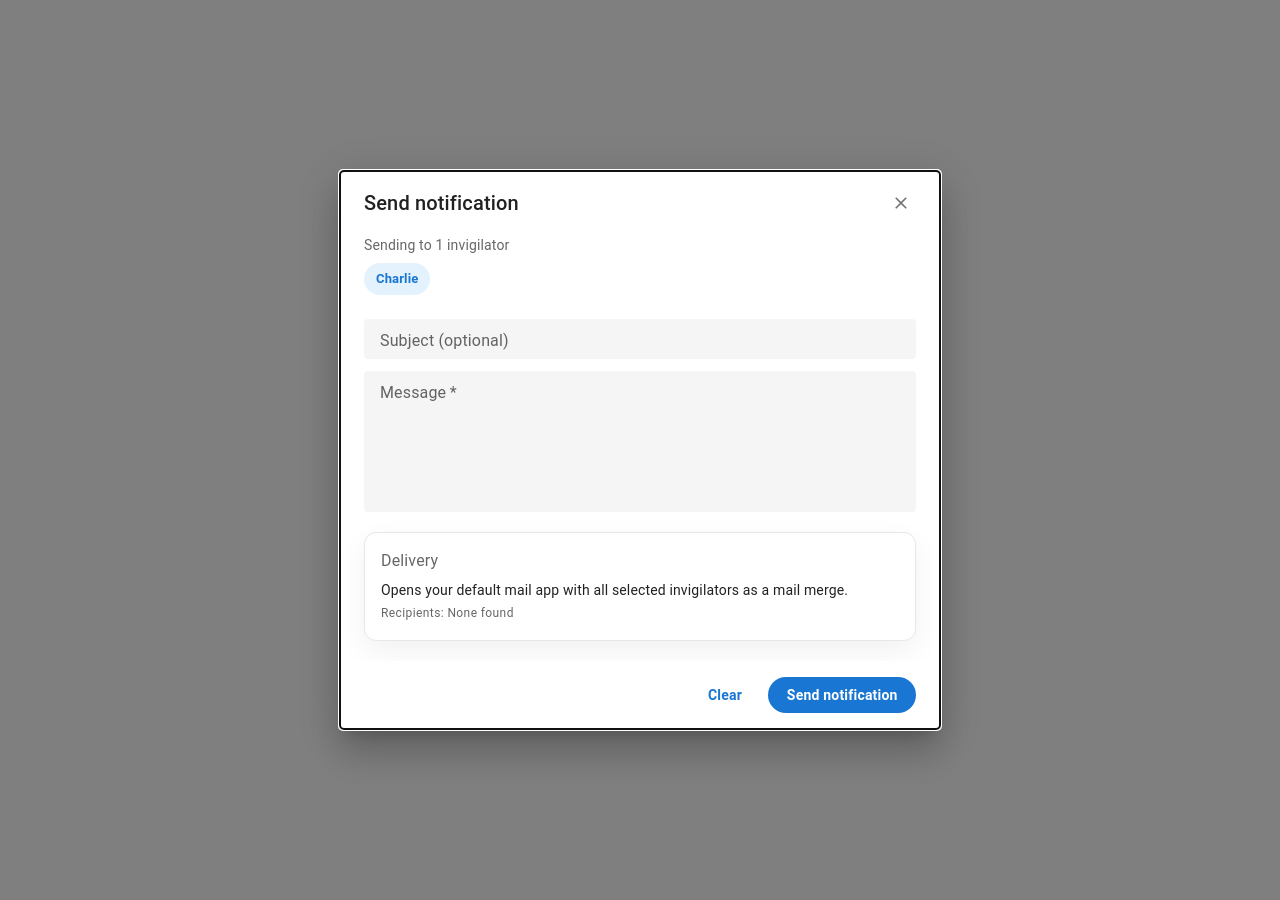
Scenario: Components - NotifyDialog › validates missing email addresses
Click the button "Send notification" at (842, 695), box [768,677,916,713]
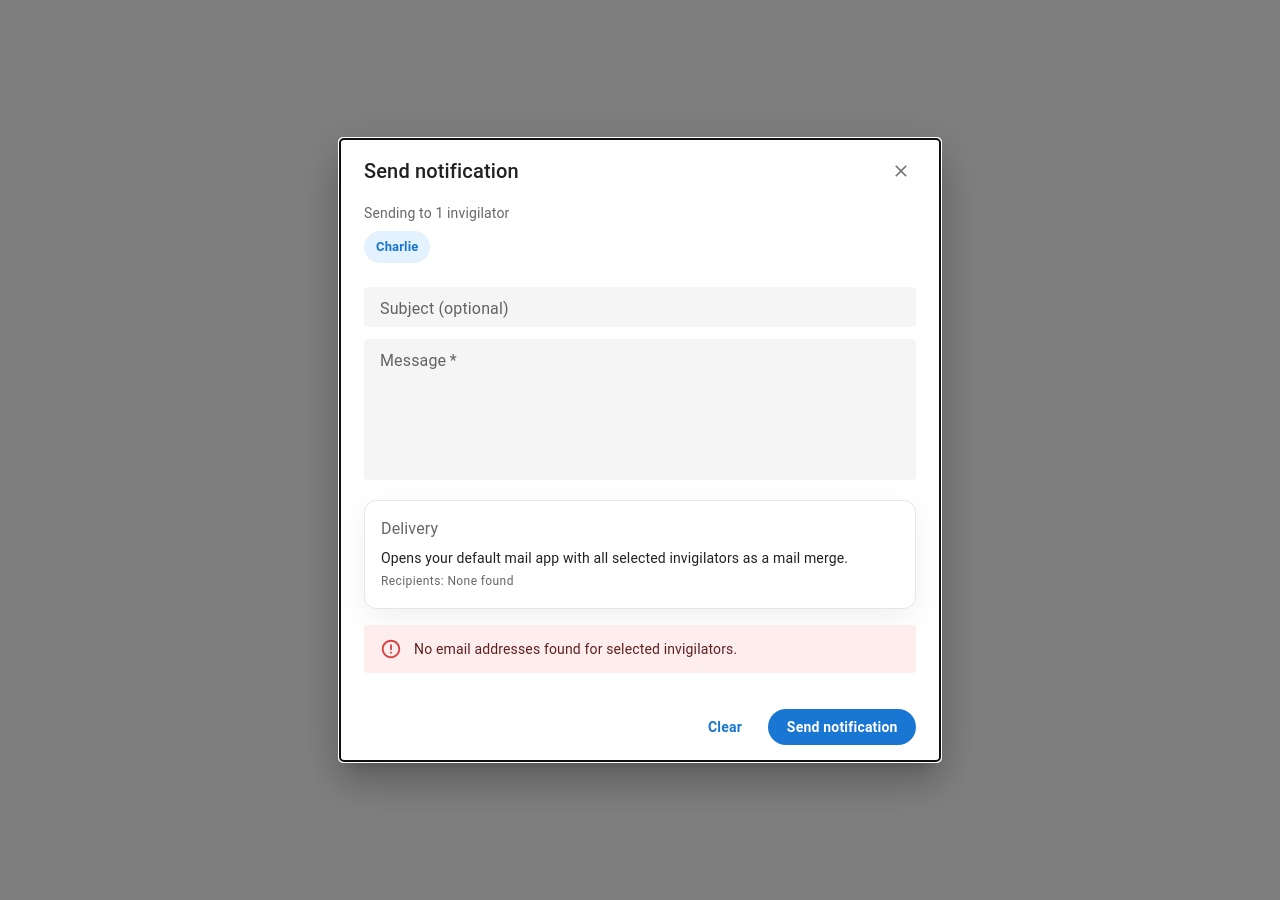
Expected: the text "No email addresses found for selected invigilators." is shown, [414,641,737,657]
